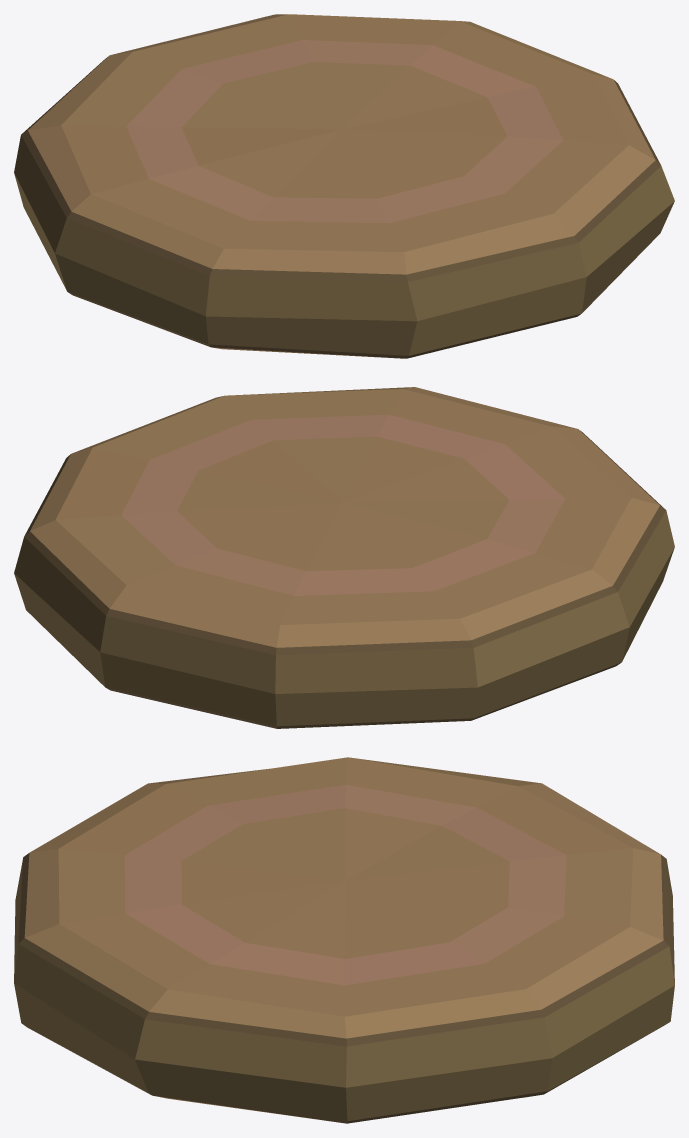
File: SM_Prop_Pillow_01V2.fbx
3 views of the same model, one above another, from view 1: azimuth 30°, elevation 25°; view 2: azimuth 150°, elevation 25°; view 3: azimuth 270°, elevation 25° (orthographic). The views are drawn at different scales.
Visible parts, largest first — view 1: SM_Prop_Pillow_01V2; view 2: SM_Prop_Pillow_01V2; view 3: SM_Prop_Pillow_01V2.
Part boxes in pixels (left/top/right/bottom): SM_Prop_Pillow_01V2: left=14, top=14, right=674, bottom=358; SM_Prop_Pillow_01V2: left=14, top=387, right=674, bottom=728; SM_Prop_Pillow_01V2: left=14, top=757, right=674, bottom=1123.
Bounding box in the file's own units: 0.6863 × 0.1302 × 0.6537.
Materials: 1 (1 with a texture image).
